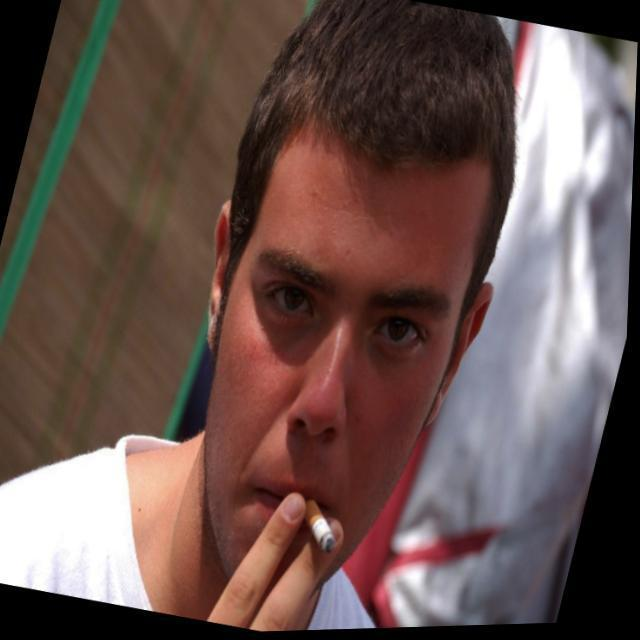puffy_eyes: (263, 301, 318, 354), (371, 337, 423, 380)
